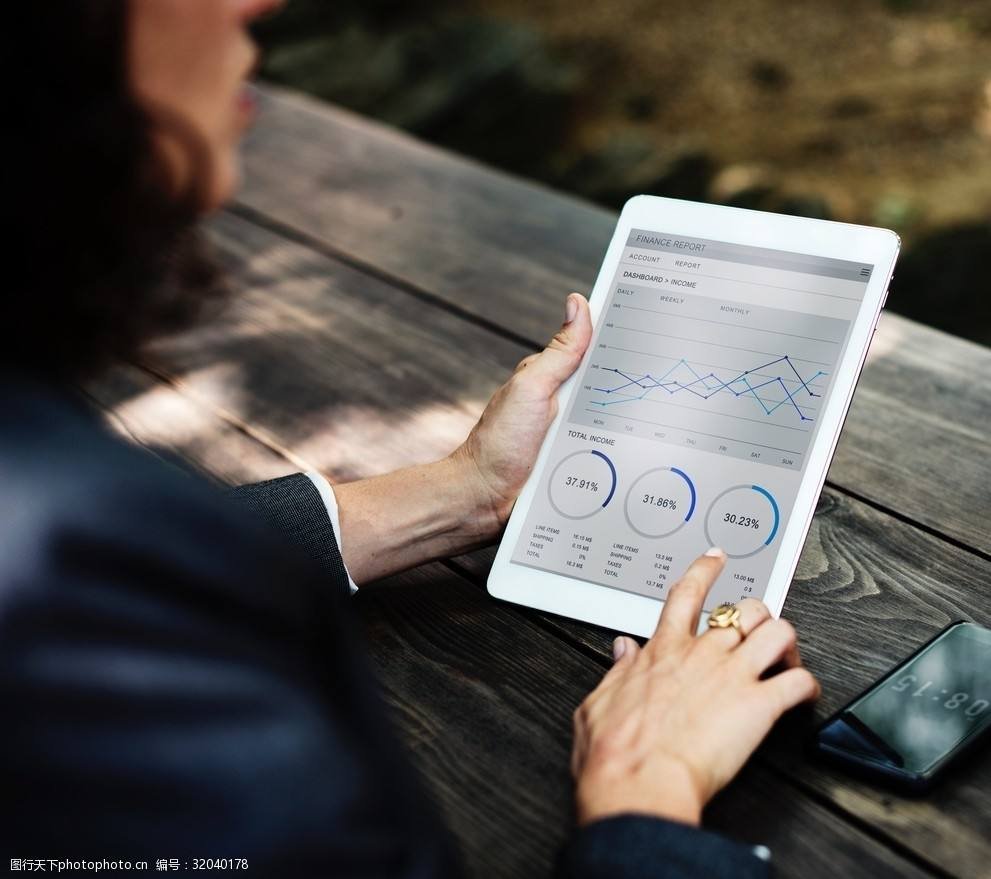pad: (407, 189, 906, 768)
